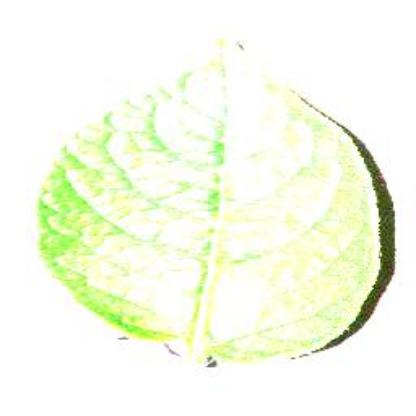Healthy-plant: (36, 28, 386, 374)
